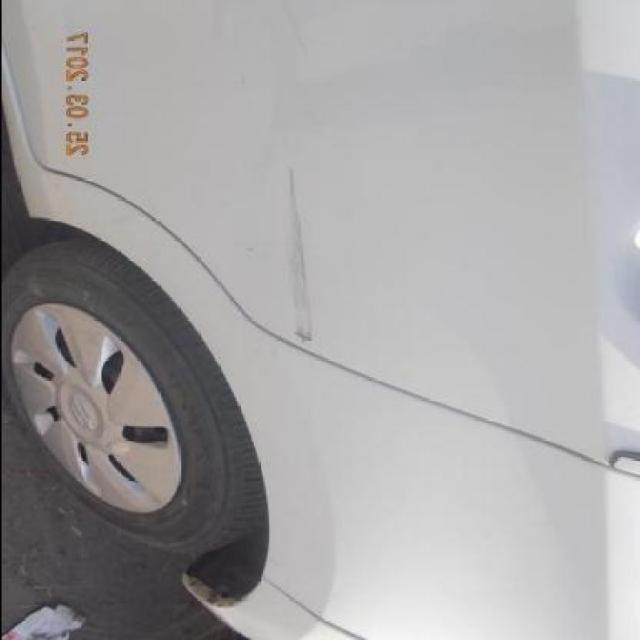damage: (283, 164, 314, 347)
